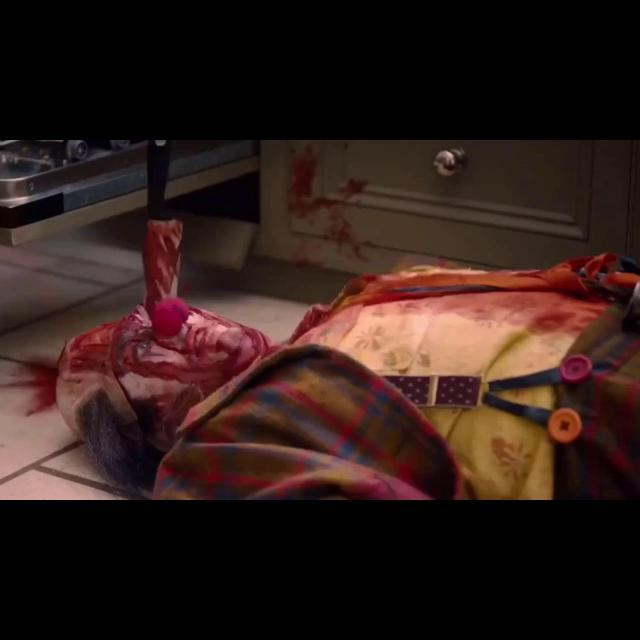blood: (0, 141, 273, 451), (258, 140, 397, 272)
